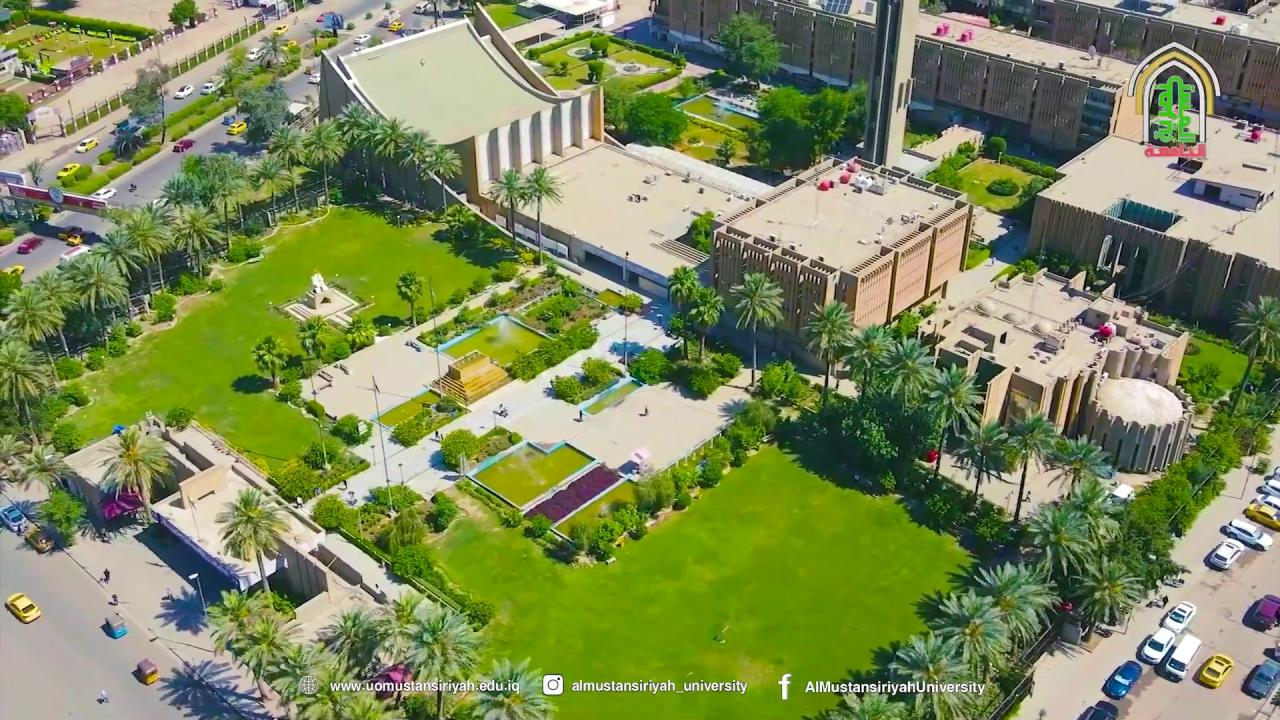car: (1163, 635, 1202, 681), (1219, 518, 1272, 551), (1101, 660, 1143, 700), (369, 663, 414, 700), (1241, 659, 1279, 699), (1137, 628, 1175, 665), (1203, 538, 1245, 570), (1242, 495, 1279, 531), (1197, 654, 1234, 689), (1159, 601, 1196, 634), (1098, 483, 1135, 514), (4, 593, 41, 623), (1251, 594, 1279, 631), (0, 504, 29, 534), (1076, 700, 1118, 719), (24, 529, 54, 554), (59, 245, 91, 263), (57, 225, 84, 244), (17, 236, 43, 254), (74, 137, 98, 153), (88, 187, 117, 200), (56, 164, 80, 179), (172, 138, 195, 152), (225, 121, 247, 135), (174, 84, 194, 99), (244, 47, 264, 62), (1145, 595, 1168, 608), (2, 264, 26, 276), (199, 81, 216, 95), (221, 114, 235, 126), (353, 34, 371, 43), (307, 72, 320, 84)
fountain: (464, 438, 601, 515), (433, 311, 553, 372), (1144, 74, 1202, 155), (679, 90, 767, 136), (369, 390, 448, 424), (134, 657, 159, 685)
person: (101, 569, 110, 582)
tree: (198, 584, 557, 719), (803, 560, 1060, 719), (205, 587, 299, 701), (399, 605, 482, 718), (756, 84, 862, 166), (213, 485, 292, 592), (969, 560, 1059, 653), (929, 588, 1010, 684), (887, 630, 974, 719), (96, 424, 170, 524), (920, 362, 984, 476), (180, 152, 247, 254), (727, 270, 785, 387), (998, 411, 1057, 522), (1069, 554, 1145, 639), (1228, 293, 1280, 414), (462, 655, 556, 719), (799, 298, 854, 405), (90, 226, 146, 323), (1024, 500, 1090, 580), (713, 9, 782, 84), (603, 88, 688, 148), (1040, 433, 1112, 500), (952, 416, 1010, 499), (58, 250, 130, 315), (0, 339, 48, 435), (876, 336, 935, 411), (123, 210, 170, 304), (521, 164, 564, 266), (318, 606, 383, 673), (839, 323, 895, 400), (299, 120, 346, 209), (31, 268, 78, 355), (334, 100, 379, 190), (802, 86, 854, 163), (129, 58, 175, 144), (369, 115, 415, 200), (1, 285, 66, 345), (1144, 461, 1194, 537), (265, 122, 306, 214), (235, 76, 291, 142), (487, 166, 530, 251), (169, 208, 220, 277), (16, 444, 77, 498), (247, 155, 294, 225), (418, 142, 463, 214), (665, 264, 698, 360), (35, 487, 86, 547), (396, 129, 436, 201), (1176, 360, 1226, 415), (688, 286, 725, 359), (1193, 427, 1242, 476), (250, 333, 290, 390), (739, 33, 782, 86), (615, 288, 643, 367), (300, 398, 332, 467), (439, 427, 484, 476), (370, 114, 413, 158), (310, 493, 351, 536), (389, 408, 433, 448), (395, 270, 424, 328), (159, 171, 199, 213), (213, 57, 252, 98), (666, 263, 698, 311), (390, 506, 426, 548), (295, 314, 329, 358), (629, 347, 668, 385), (666, 311, 696, 360), (49, 419, 87, 455), (256, 28, 289, 69), (687, 209, 717, 254), (343, 314, 377, 352), (429, 490, 459, 530), (580, 355, 617, 387), (687, 364, 721, 397), (550, 374, 584, 404), (150, 288, 178, 322), (165, 405, 193, 432), (168, 0, 195, 28), (24, 156, 47, 187), (714, 135, 736, 166), (586, 59, 604, 83)
